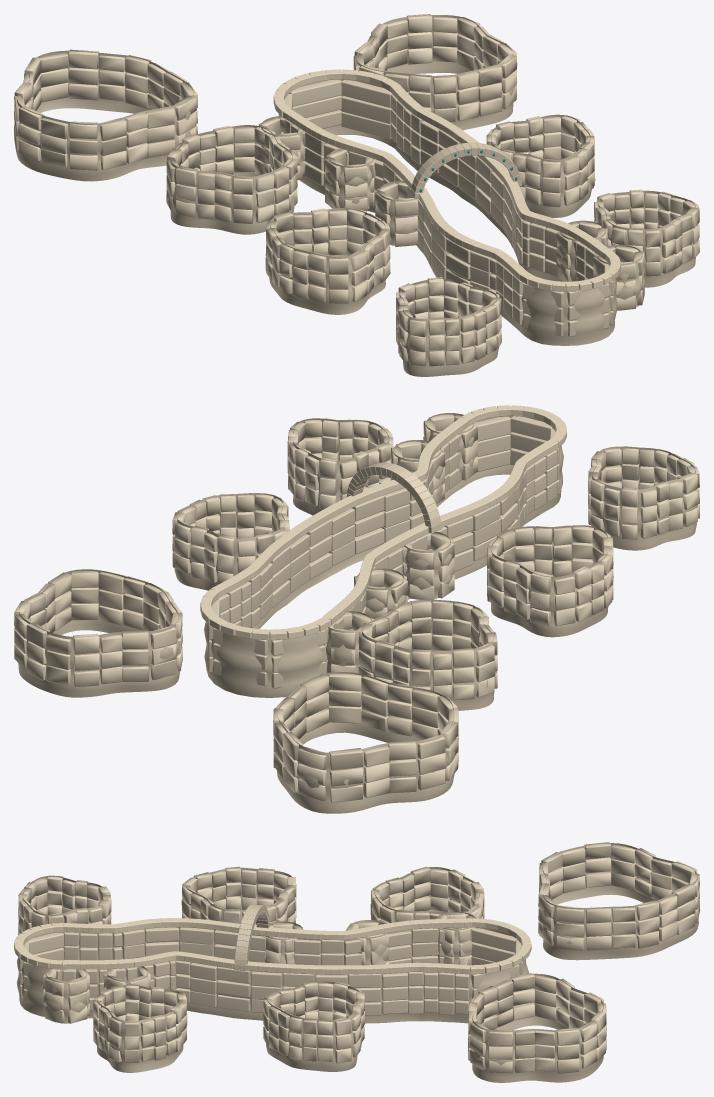
File: oasis-course-1-mobile-lod-v1-71a9d710b1.glb
The picture shows the model from 3 angles, top to bottom: view 1: azimuth 30°, elevation 25°; view 2: azimuth 150°, elevation 25°; view 3: azimuth 270°, elevation 25°; orthographic projection. The views are drawn at different scales.
Parts seen in each view (by area): view 1: Oasis artisan masonry; view 2: Oasis artisan masonry; view 3: Oasis artisan masonry.
Boxes of the visible parts, bbox=[...] form: Oasis artisan masonry: bbox=[14, 14, 699, 376]; Oasis artisan masonry: bbox=[14, 405, 699, 813]; Oasis artisan masonry: bbox=[14, 842, 699, 1082].
Bounding box in the file's own units: 17.73 × 4.07 × 26.89.
